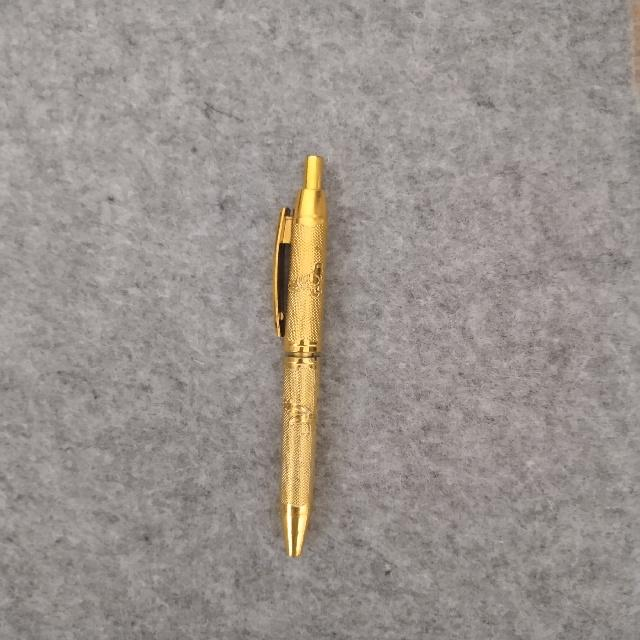signature pen: (273, 156, 326, 555)
